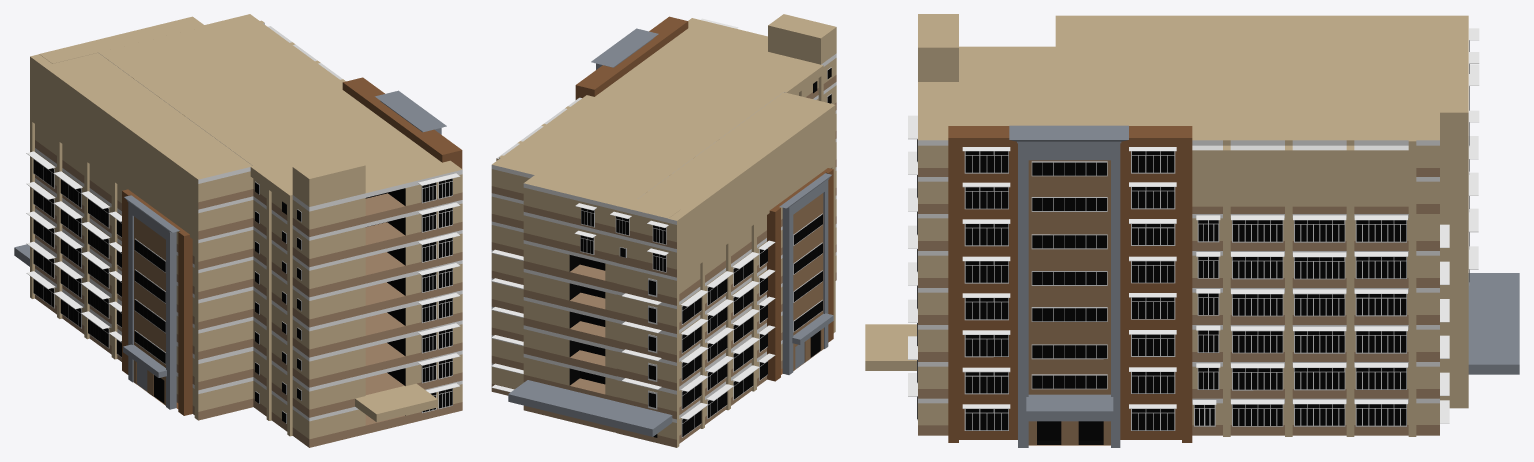
Rendered from og_bautista.glb.
3 views of the same model, side by side, from view 1: azimuth 30°, elevation 25°; view 2: azimuth 150°, elevation 25°; view 3: azimuth 270°, elevation 25° (orthographic). The views are drawn at different scales.
Visible parts, largest first — view 1: bautista; view 2: bautista; view 3: bautista.
Part boxes in pixels (bbox=[...]): bautista: bbox=[14, 14, 462, 447]; bautista: bbox=[491, 14, 836, 447]; bautista: bbox=[865, 14, 1519, 447].
Bounding box in the file's own units: 3.53 × 3.35 × 6.02.
